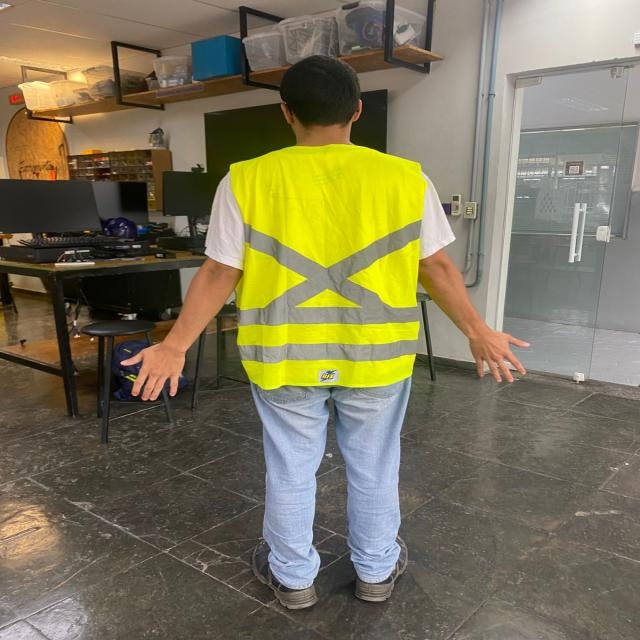BOTA: (247, 541, 317, 609), (354, 531, 409, 605)
COLETE: (225, 143, 424, 388)
SEM LUVA: (120, 339, 192, 400), (465, 326, 532, 385)
